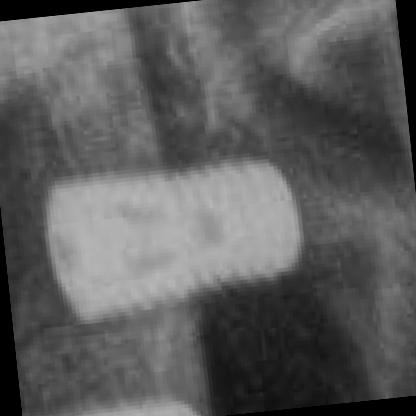ITI: (36, 128, 316, 338)
